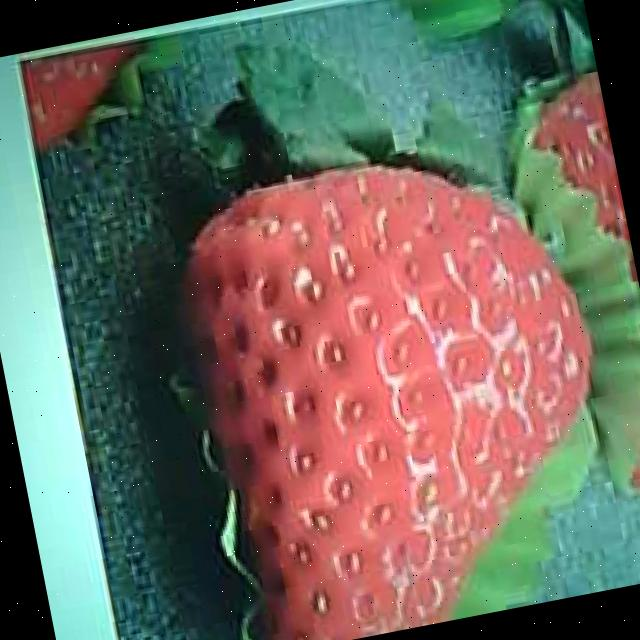strawberry: (153, 126, 638, 640)
